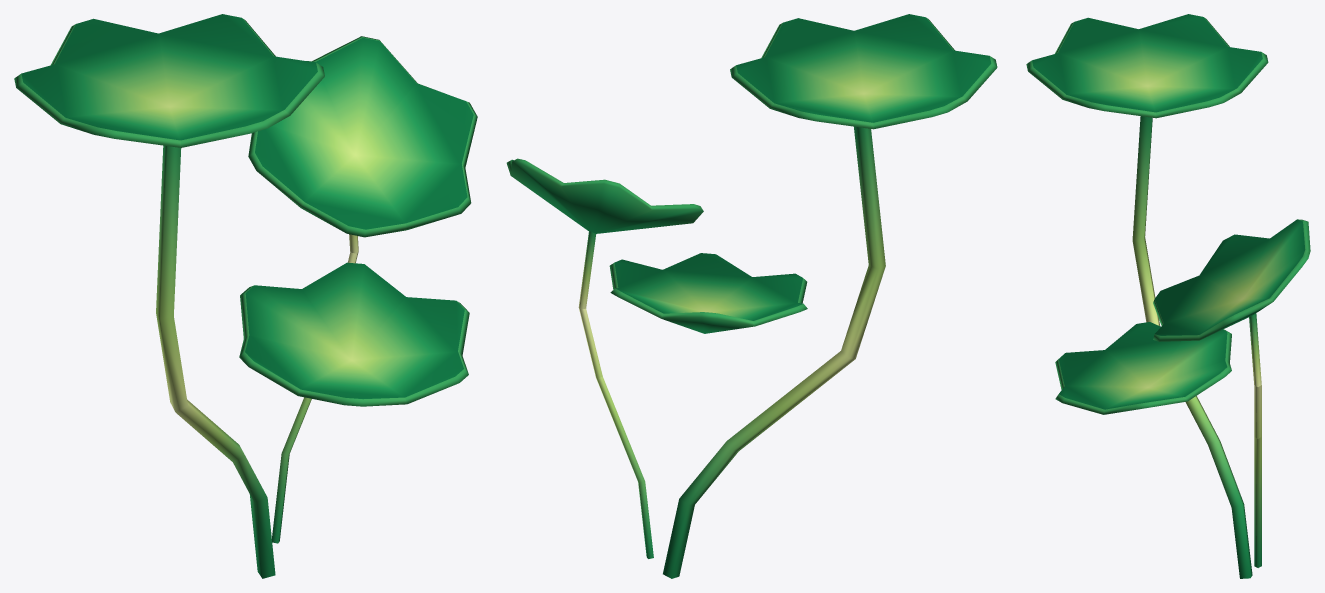
Rendered from SK_PlantA_002.FBX.
3 views of the same model, side by side, from view 1: azimuth 30°, elevation 25°; view 2: azimuth 150°, elevation 25°; view 3: azimuth 270°, elevation 25° (orthographic). The views are drawn at different scales.
Visible parts, largest first — view 1: SK_PlantA_002; view 2: SK_PlantA_002; view 3: SK_PlantA_002.
Part boxes in pixels (<box>): SK_PlantA_002: <box>14,14,477,578</box>; SK_PlantA_002: <box>506,14,997,578</box>; SK_PlantA_002: <box>1026,14,1310,578</box>.
Bounding box in the file's own units: 37.59 × 43.71 × 24.58.
Materials: 1 (1 with a texture image).
